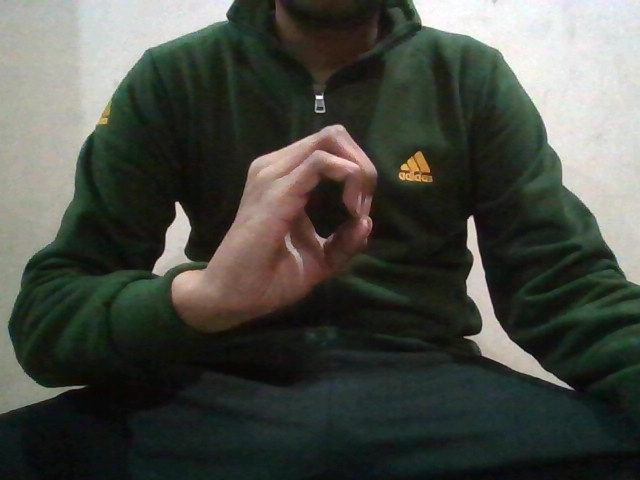O: (218, 119, 386, 311)
